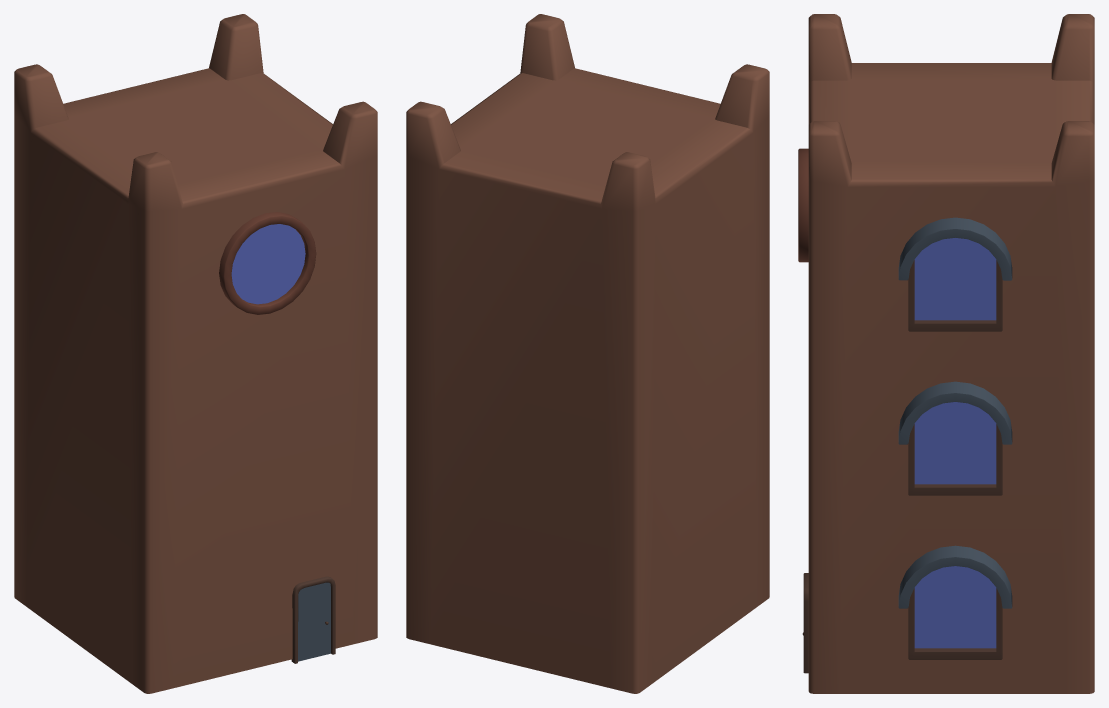
Rendered from BuildingCluster_b03.fbx.
The picture shows the model from 3 angles, left to right: view 1: azimuth 30°, elevation 25°; view 2: azimuth 150°, elevation 25°; view 3: azimuth 270°, elevation 25°; orthographic projection. The views are drawn at different scales.
Visible parts, largest first — view 1: base.003; view 2: base.003; view 3: base.003.
Part boxes in pixels (x1,y1,x2,y2): base.003: [14, 14, 377, 693]; base.003: [406, 14, 769, 693]; base.003: [798, 14, 1094, 693].
Bounding box in the file's own units: 694 × 1380 × 658.
